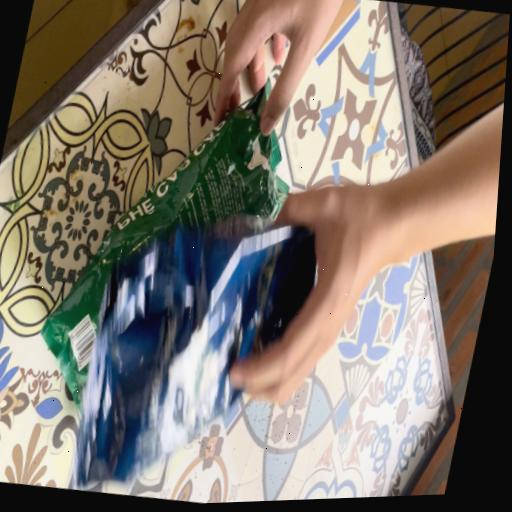cafe_hat: (40, 82, 288, 408), (75, 215, 315, 485)
